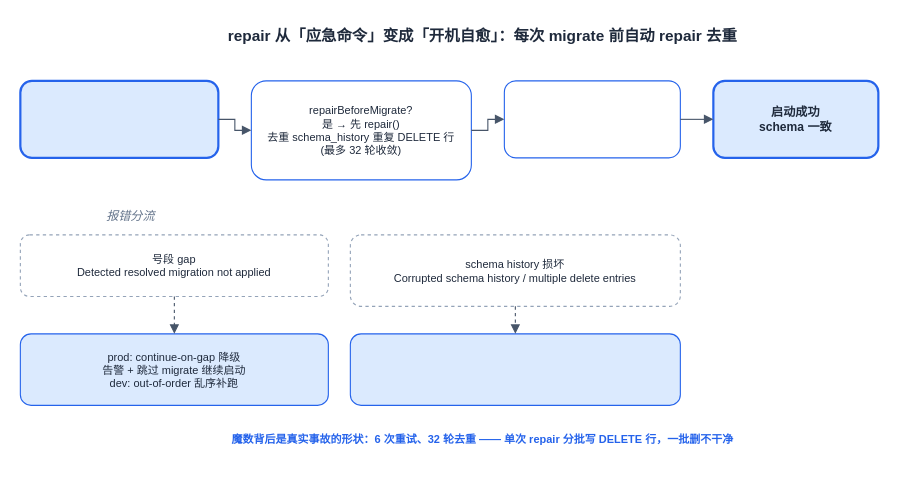
Some shapes in this 898 by 483 pixel diagram are drawn without their labels. The box of each missing label's shape, as (x1, y1, x2, y2) in pixels:
migrate() 失败按报错分流 最多重试 6 次: (503, 80, 680, 158)
repair 去重失败行 → 重放 脚本须幂等(INFORMATION_SCHEMA 守卫) 去重循环最多 32 轮: (349, 333, 680, 405)
服务启动 FlywayMigrationStrategy Bean 接管 migrate(): (19, 79, 219, 158)
